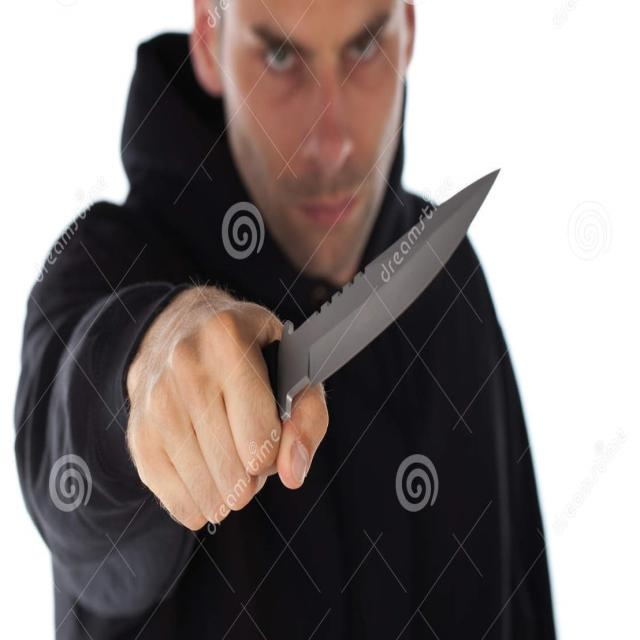knife: (261, 165, 508, 434)
